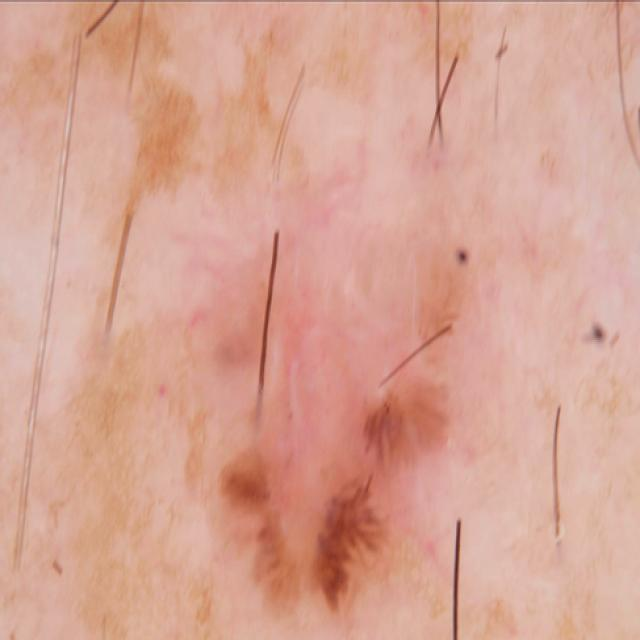Carcinoma: (141, 268, 493, 640)
